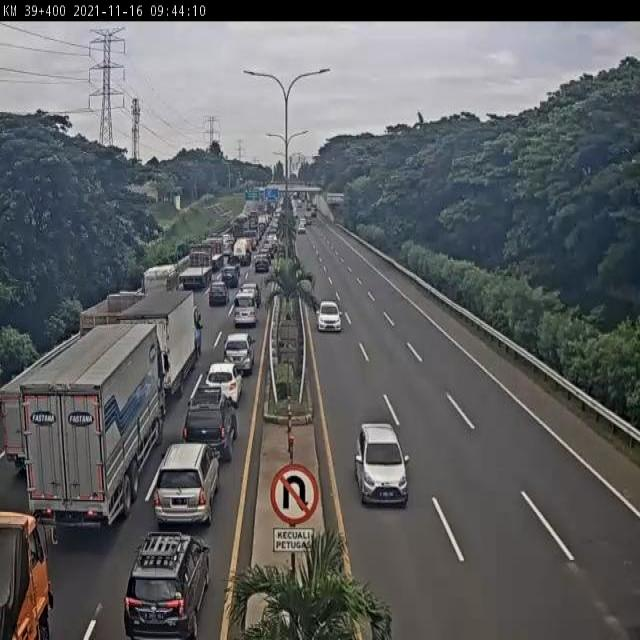Car: (124, 531, 211, 639), (151, 442, 221, 528), (180, 381, 238, 462), (354, 421, 409, 506), (206, 360, 243, 404), (222, 333, 255, 376), (316, 300, 343, 333), (237, 282, 261, 310), (209, 280, 229, 306), (220, 264, 240, 288), (253, 252, 269, 273), (297, 221, 306, 234)
Truck: (17, 323, 164, 544), (110, 288, 198, 402), (1, 511, 54, 637), (143, 264, 178, 296), (178, 266, 212, 292), (204, 237, 226, 266), (188, 248, 212, 274), (233, 237, 253, 266)
